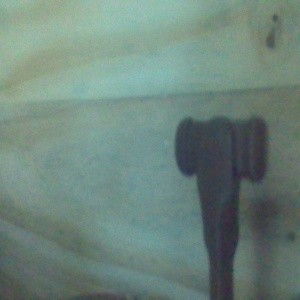palu: (174, 114, 269, 300)
